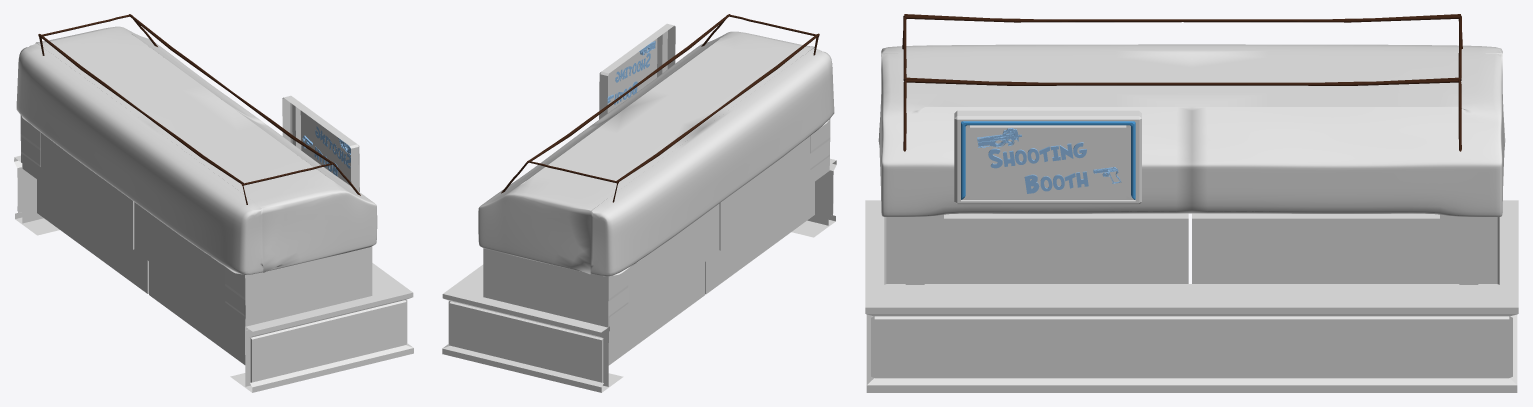
File: _ooth.fbx
The picture shows the model from 3 angles, left to right: view 1: azimuth 30°, elevation 25°; view 2: azimuth 150°, elevation 25°; view 3: azimuth 270°, elevation 25°; orthographic projection. The views are drawn at different scales.
Parts seen in each view (by area): view 1: Cube.001, Text.004; view 2: Cube.001, Text.004; view 3: Cube.001, Text.004, Text.005.
Boxes of the visible parts, left/top/right/bottom form: Cube.001: left=14, top=14, right=413, bottom=392; Text.004: left=314, top=126, right=350, bottom=176; Cube.001: left=442, top=14, right=836, bottom=392; Text.004: left=614, top=53, right=650, bottom=104; Cube.001: left=865, top=14, right=1518, bottom=392; Text.004: left=988, top=142, right=1088, bottom=193; Text.005: left=977, top=128, right=1121, bottom=183.
Size of the model in its own units: 489 by 542 by 1174.
